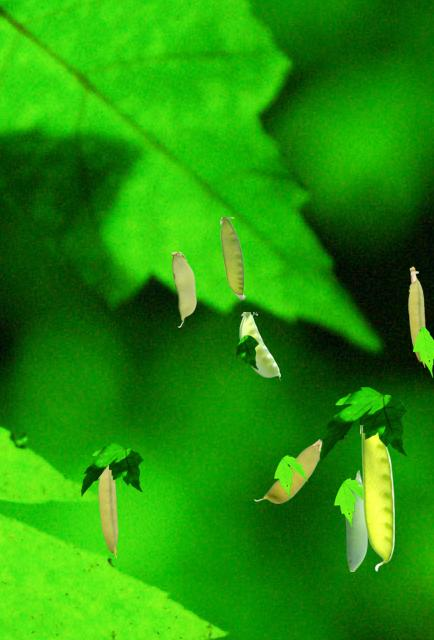pea: (360, 426, 393, 570), (254, 439, 321, 502), (239, 312, 279, 380), (345, 470, 366, 570), (220, 217, 244, 298), (98, 467, 117, 557), (172, 252, 195, 326), (408, 266, 425, 366)
